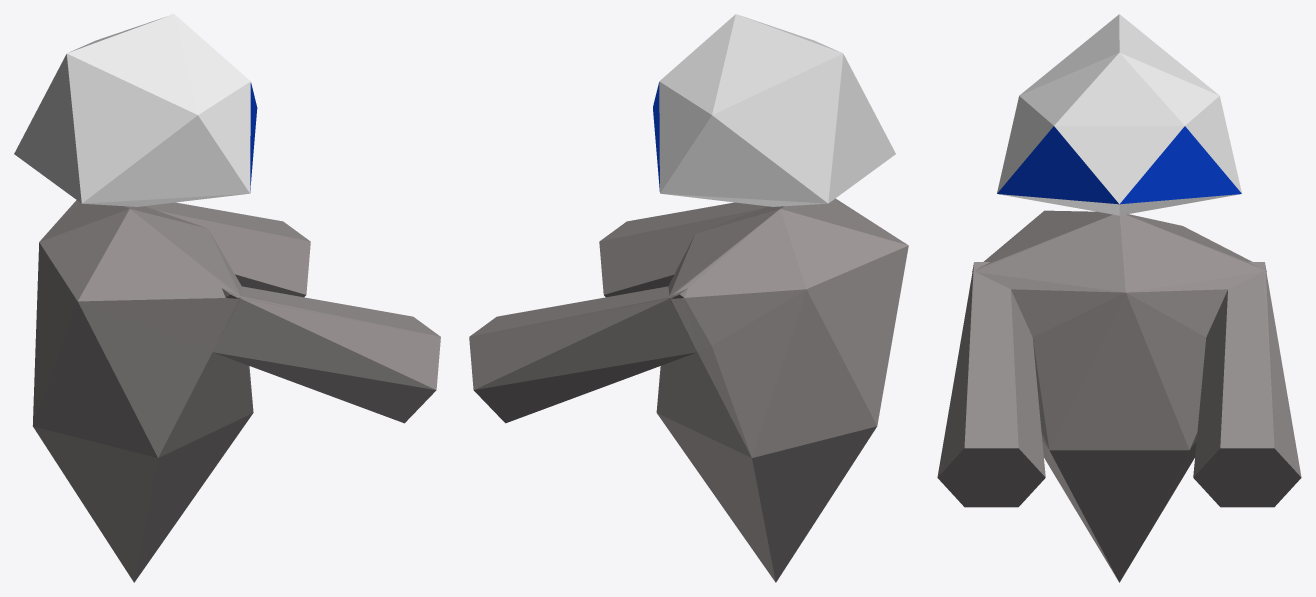
Rendered from MaskedCharacter.dae.
3 renders of one model, left to right at view 1: azimuth 30°, elevation 25°; view 2: azimuth 150°, elevation 25°; view 3: azimuth 270°, elevation 25°, orthographic.
Parts seen in each view (by area): view 1: Icosphere.001, Icosphere; view 2: Icosphere.001, Icosphere; view 3: Icosphere.001, Icosphere.
Boxes of the visible parts, x1,y1,x2,y2 form: Icosphere.001: [32, 200, 440, 582]; Icosphere: [14, 14, 257, 206]; Icosphere.001: [469, 198, 908, 582]; Icosphere: [653, 14, 895, 206]; Icosphere.001: [937, 210, 1301, 582]; Icosphere: [997, 14, 1241, 215].
Size of the model in its own units: 2.92 by 2.85 by 4.74.
